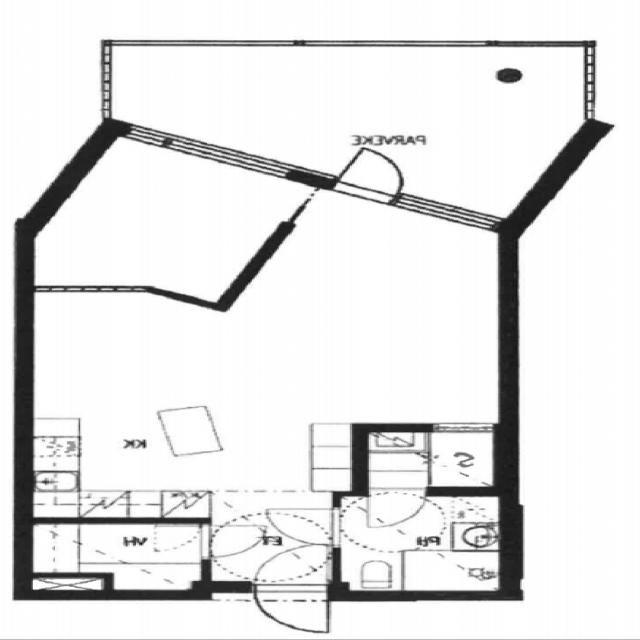door: (330, 143, 426, 204), (254, 581, 326, 633), (254, 541, 326, 592), (267, 509, 341, 545), (370, 487, 426, 529), (201, 526, 269, 558)
